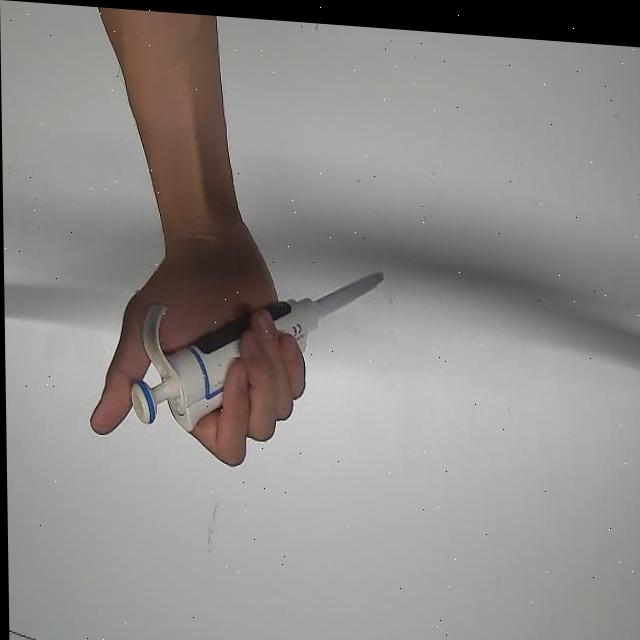Single Channel Pipettor: (127, 248, 389, 445)
